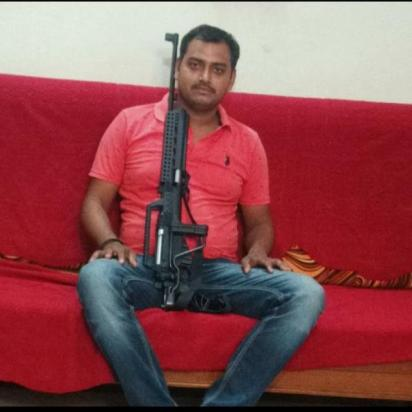Gun: (141, 32, 212, 314)
